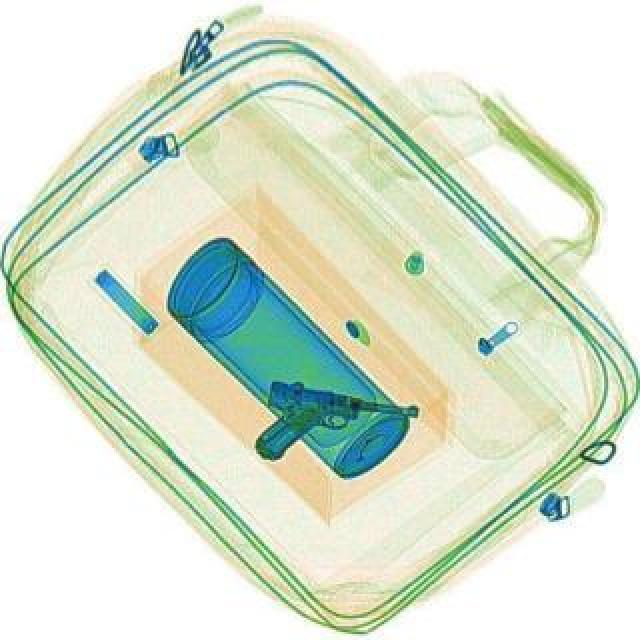gun: (252, 374, 418, 482)
